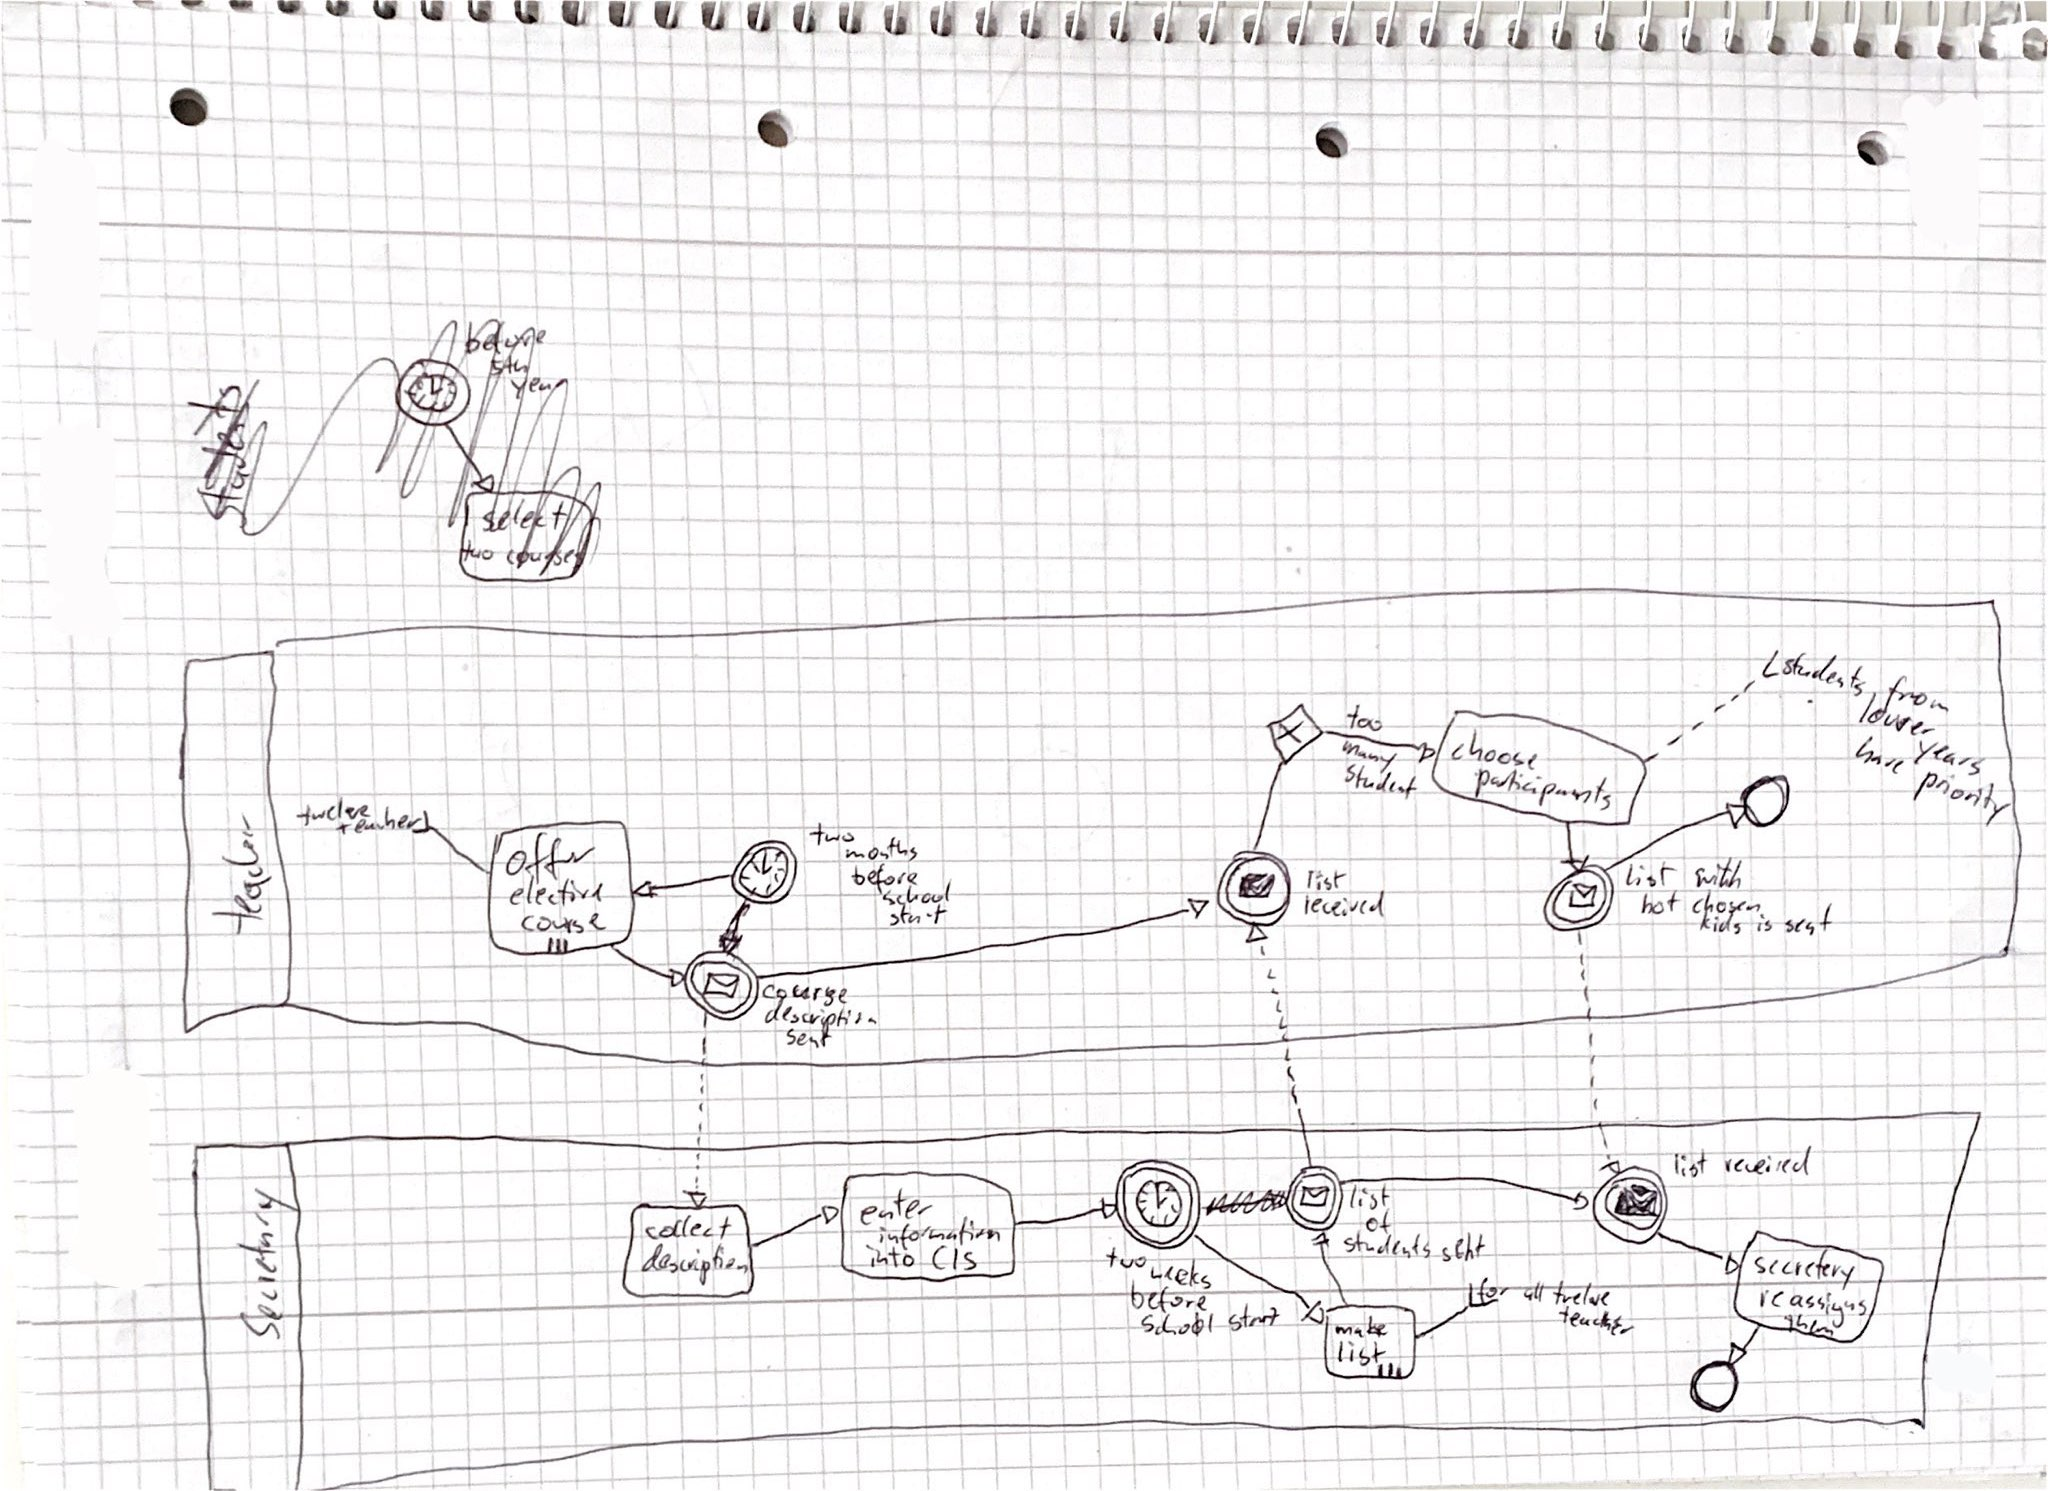CIS: (928, 1244, 980, 1272)
III: (545, 932, 573, 955), (1375, 1360, 1407, 1379)
School: (1138, 1311, 1219, 1338), (879, 882, 954, 908)
Secretary: (234, 1183, 292, 1342)
Student: (1343, 759, 1425, 790)
all: (1521, 1279, 1548, 1303)
before: (1128, 1280, 1213, 1316), (851, 863, 922, 897)
choose: (1450, 730, 1546, 764)
chosen: (1688, 889, 1766, 914)
collect: (642, 1214, 735, 1240)
course: (519, 911, 611, 935), (760, 978, 855, 1000)
description: (639, 1242, 751, 1285), (764, 998, 885, 1029)
elective: (506, 875, 607, 909)
enter: (854, 1193, 934, 1230)
for: (1476, 1276, 1515, 1303)
from: (1892, 670, 1962, 713)
have: (1864, 729, 1922, 762)
information: (875, 1214, 1004, 1251)
into: (866, 1242, 919, 1269)
is: (1755, 912, 1776, 935)
kids: (1699, 908, 1748, 933)
list: (1334, 1339, 1390, 1366), (1623, 862, 1676, 890), (1670, 1149, 1712, 1180), (1347, 1184, 1394, 1210), (1302, 870, 1347, 895)
lower: (1866, 690, 1949, 727)
make: (1334, 1314, 1390, 1339)
many: (1343, 733, 1405, 757)
months: (841, 836, 921, 862)
not: (1638, 889, 1680, 917)
of: (1363, 1209, 1393, 1237)
offer: (502, 830, 596, 884)
participants: (1477, 764, 1622, 800)
priority: (1925, 756, 2023, 800)
reassigns: (1759, 1287, 1873, 1318)
received: (1300, 886, 1390, 919), (1721, 1146, 1814, 1177)
secretery: (1753, 1241, 1860, 1281)
sent: (1439, 1229, 1489, 1263), (1781, 906, 1833, 937), (784, 1025, 834, 1049)
start: (1224, 1304, 1282, 1334), (887, 904, 947, 928)
students: (1788, 637, 1879, 677), (1342, 1229, 1436, 1255)
teacher: (213, 814, 270, 935), (1559, 1299, 1641, 1325)
teachers: (335, 819, 433, 839)
them: (1787, 1309, 1844, 1331)
too: (1344, 704, 1387, 732)
twelve: (295, 797, 374, 827), (1551, 1281, 1614, 1308)
two: (1103, 1245, 1151, 1271), (808, 823, 860, 848)
weeks: (1149, 1250, 1219, 1283)
with: (1692, 857, 1747, 894)
years: (1918, 737, 1995, 767)
